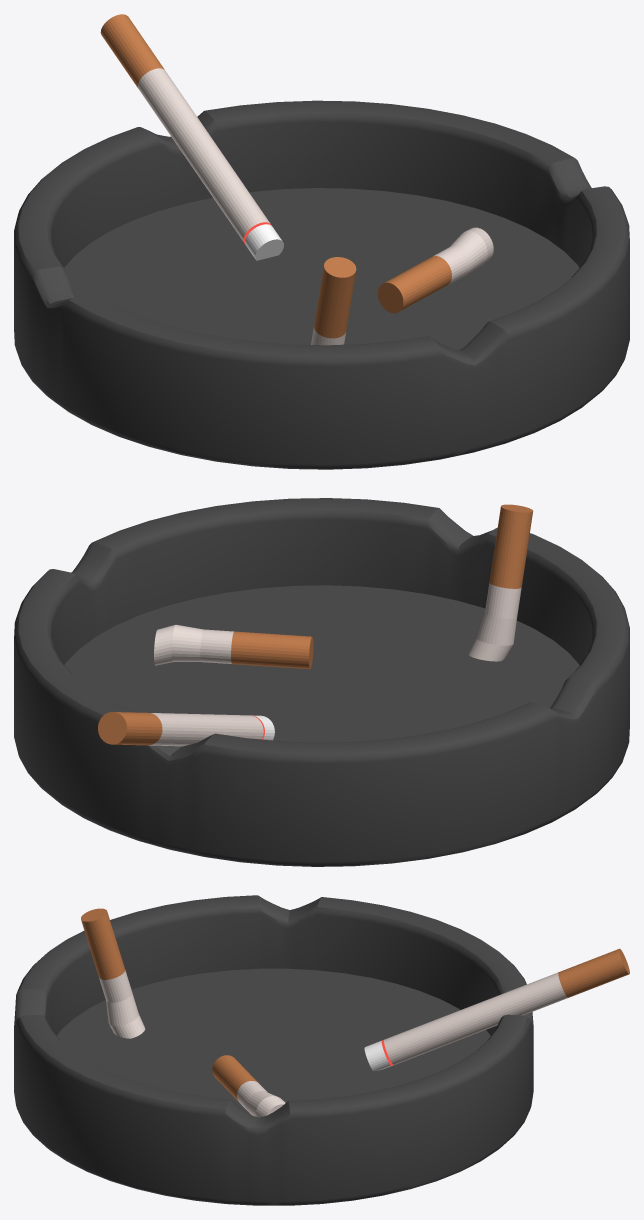
Rendered from 3dmodel6489c18184afccenicero.glb.
3 views of the same model, one above another, from view 1: azimuth 30°, elevation 25°; view 2: azimuth 150°, elevation 25°; view 3: azimuth 270°, elevation 25° (orthographic). The views are drawn at different scales.
Visible parts, largest first — view 1: cenicero, cigarrito, cigarrito3, cigarrito2; view 2: cenicero, cigarrito3, cigarrito2, cigarrito; view 3: cenicero, cigarrito, cigarrito2, cigarrito3.
Part boxes in pixels (x1,y1,x2,y2): cenicero: (14, 100, 629, 469); cigarrito: (100, 14, 283, 260); cigarrito3: (377, 227, 493, 313); cigarrito2: (311, 257, 356, 345); cenicero: (14, 498, 629, 866); cigarrito3: (154, 624, 313, 669); cigarrito2: (468, 504, 533, 661); cigarrito: (98, 712, 274, 746); cenicero: (14, 895, 533, 1205); cigarrito: (364, 948, 629, 1071); cigarrito2: (81, 908, 145, 1038); cigarrito3: (212, 1055, 285, 1117).
Size of the model in its own units: 2 by 0.6396 by 2.37.
